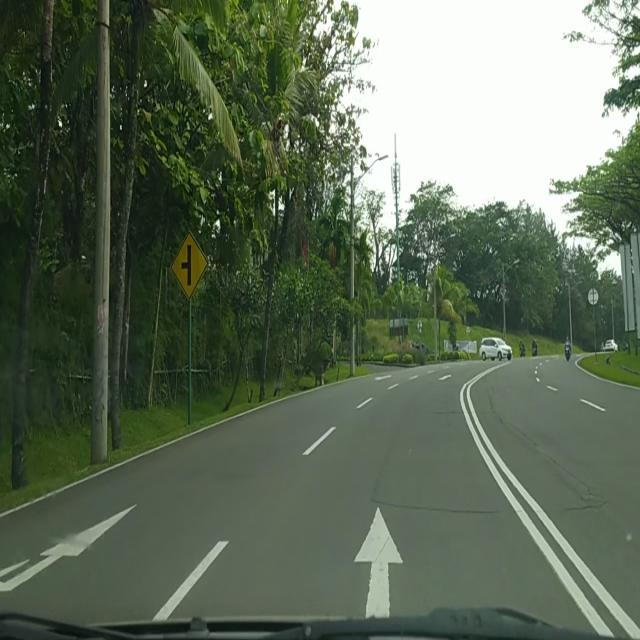Sewer Cover: (370, 490, 594, 516)
